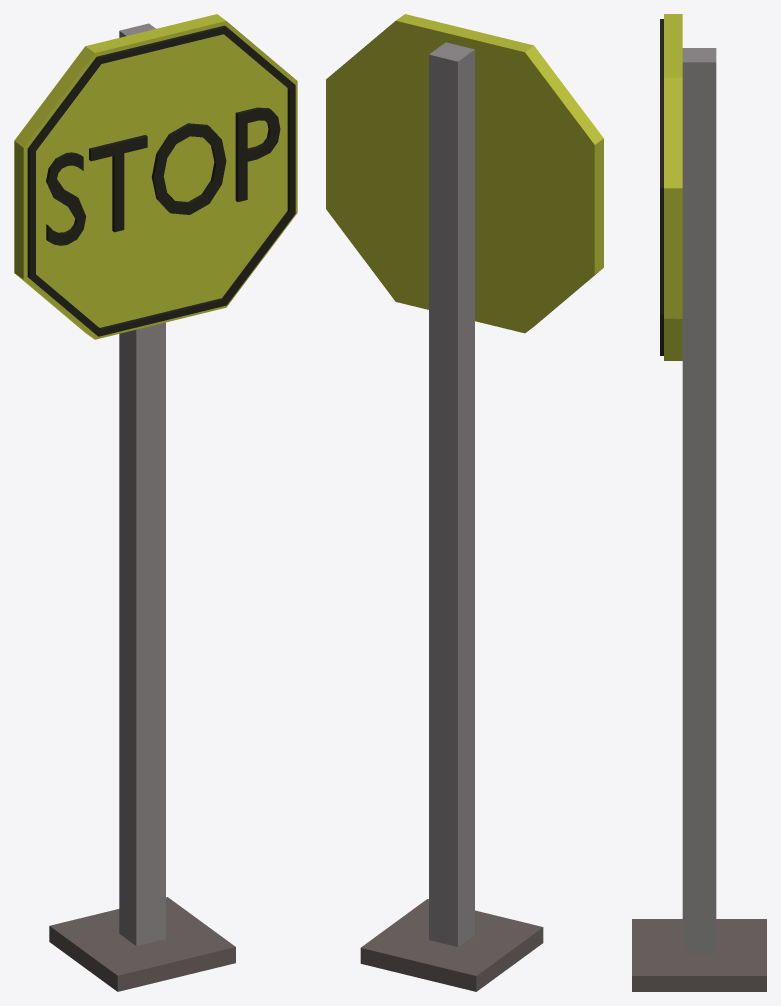
File: RoadSign(4).fbx
3 renders of one model, left to right at view 1: azimuth 30°, elevation 25°; view 2: azimuth 150°, elevation 25°; view 3: azimuth 270°, elevation 25°, orthographic.
Parts seen in each view (by area): view 1: RoadSign(4); view 2: RoadSign(4); view 3: RoadSign(4).
Part boxes in pixels (bbox=[...]): RoadSign(4): bbox=[14, 14, 297, 991]; RoadSign(4): bbox=[326, 14, 603, 991]; RoadSign(4): bbox=[632, 14, 766, 991].
Size of the model in its own units: 56.25 by 182 by 24.26.
